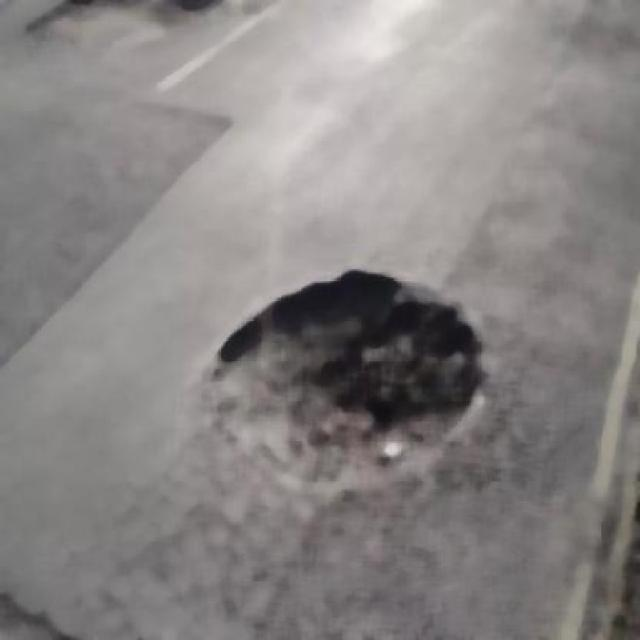Pothole: (202, 267, 482, 498)
